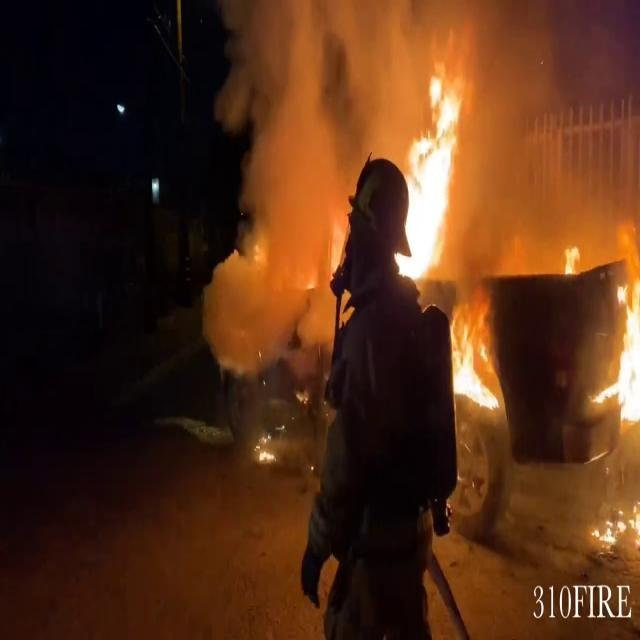Fire: (388, 74, 466, 286), (591, 228, 640, 430), (451, 310, 504, 420)
Smoke: (209, 1, 640, 283)
